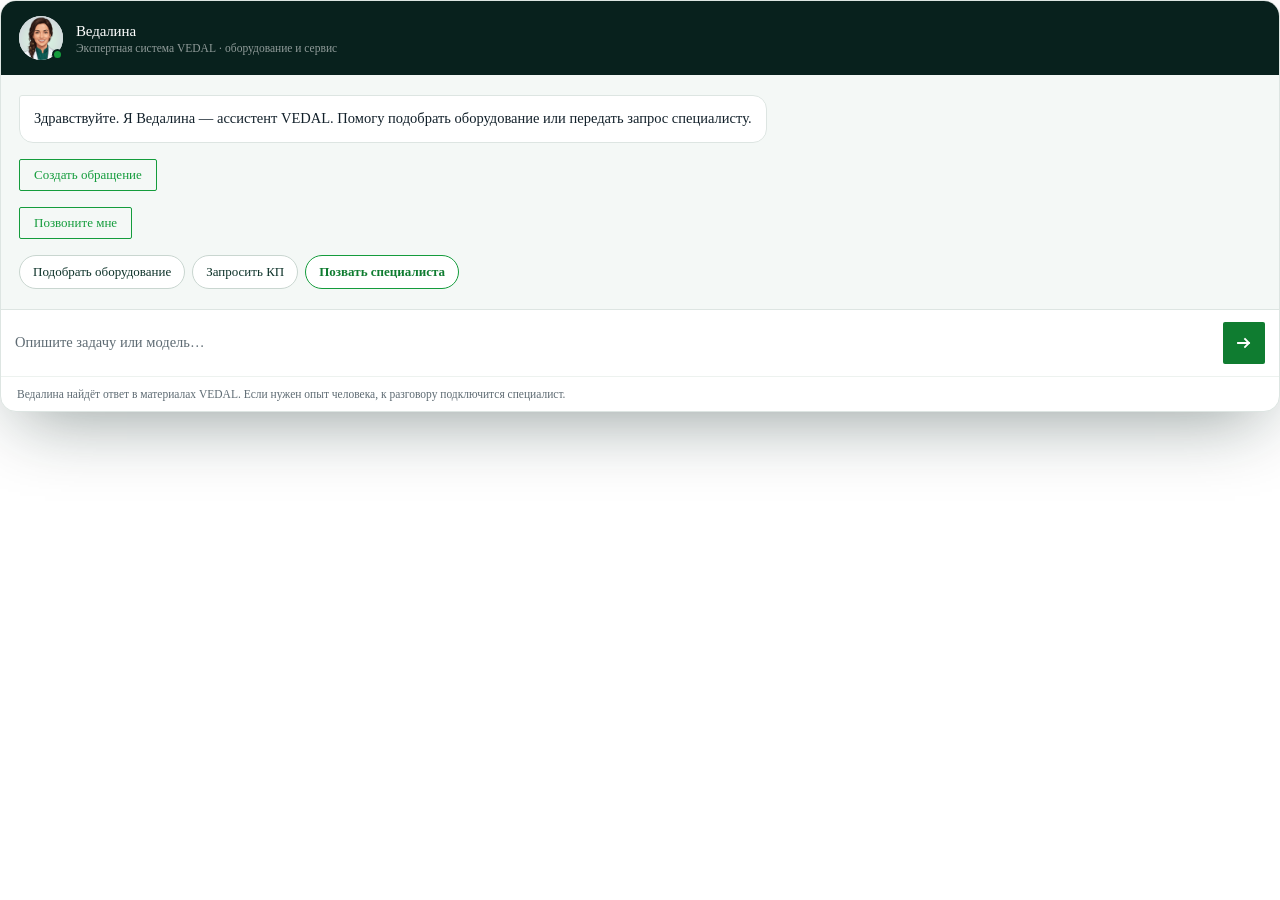
Test: команда Позвоните мне открывает форму без передачи контактов и вызова специалиста
Type "Позвоните мне" into the field named "Сообщение ассистенту".
click(614, 343); type("Позвоните мне")  # box [15,322,1213,364]
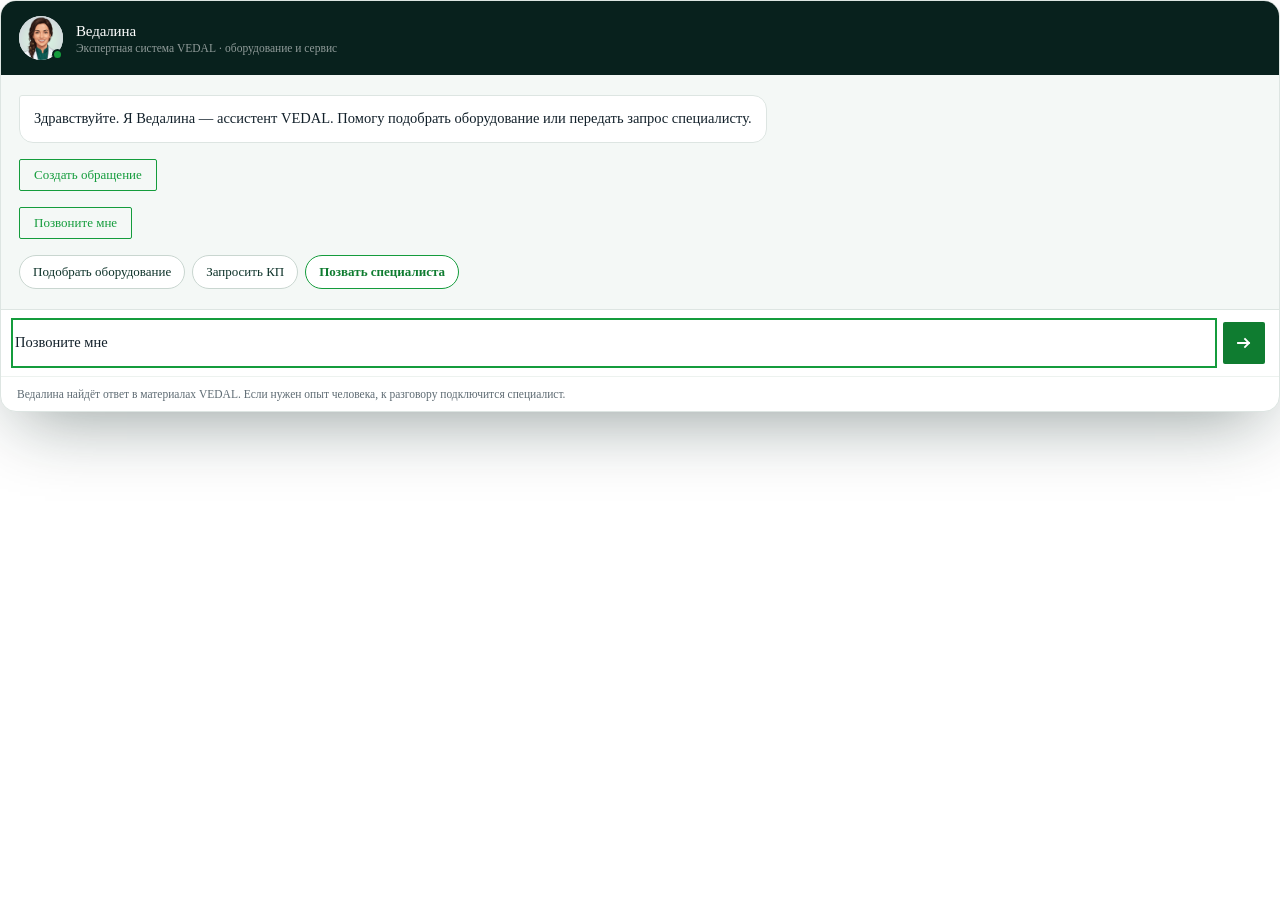
Click the button named "Отправить".
click(1244, 343)  # box [1223,322,1265,364]
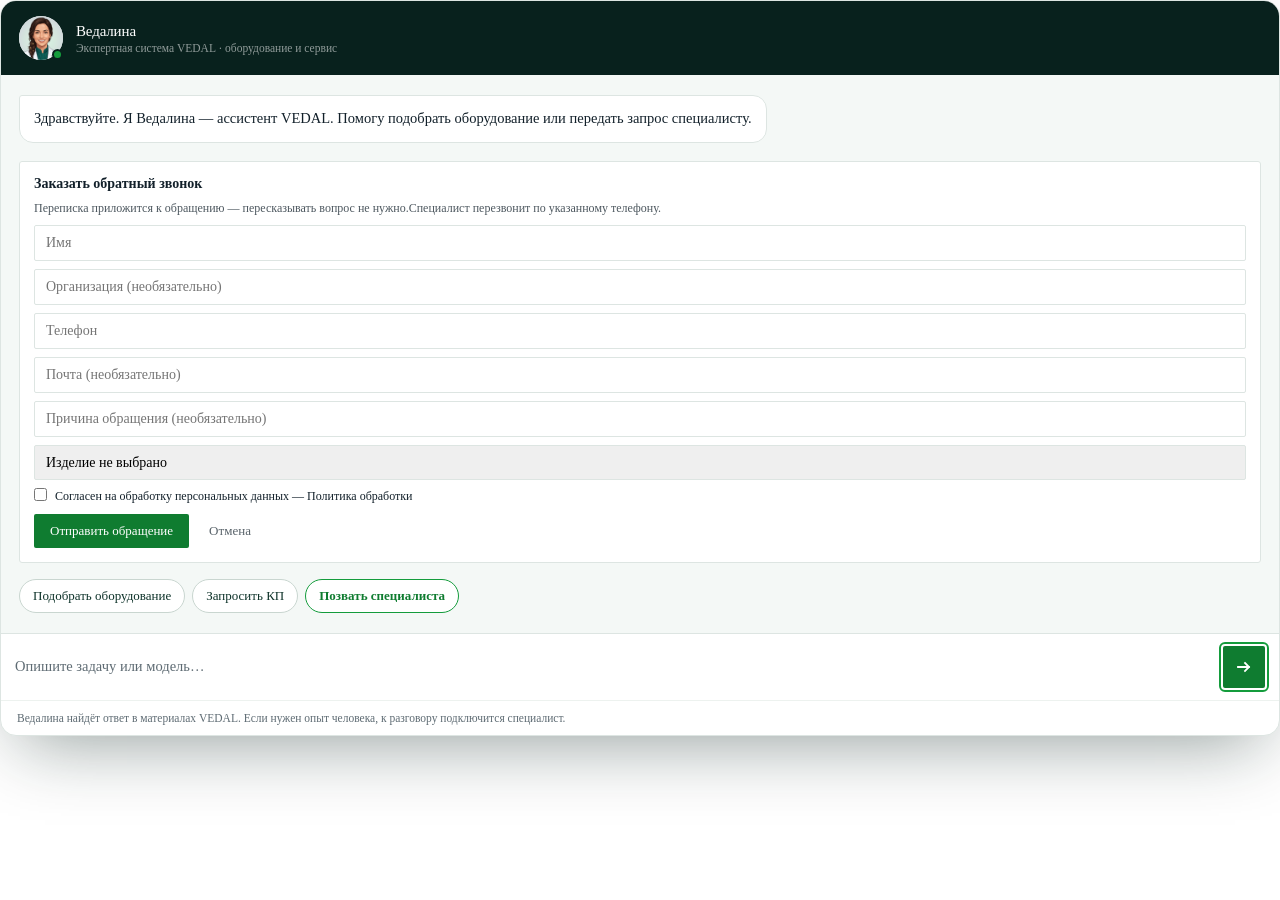
Now the text "Заказать обратный звонок" is shown, box [34,176,202,191]
Now the checkbox is not checked, box [34,488,47,501]
